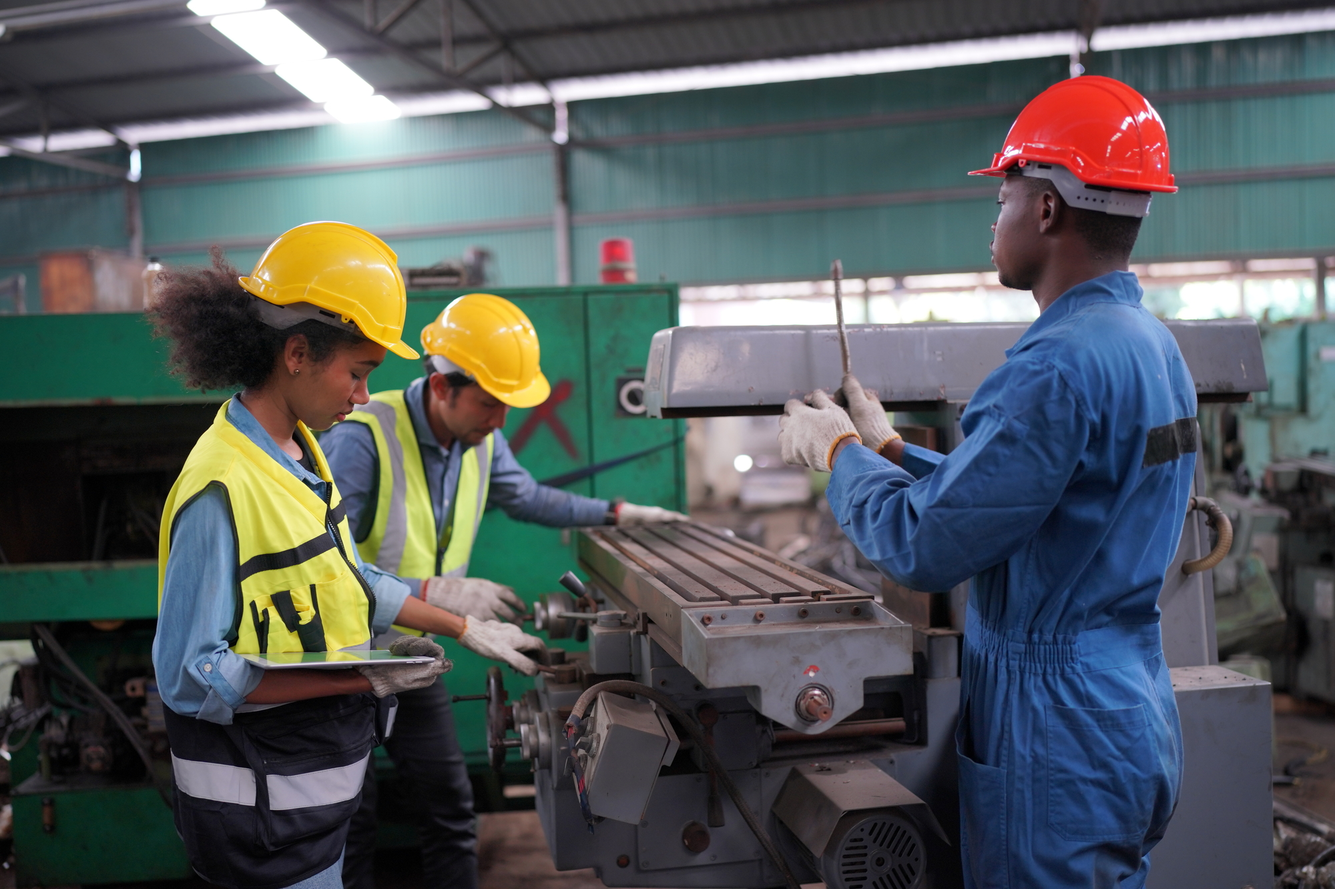Casco de seguridad: (971, 70, 1188, 214), (234, 214, 422, 362), (419, 289, 552, 409)
